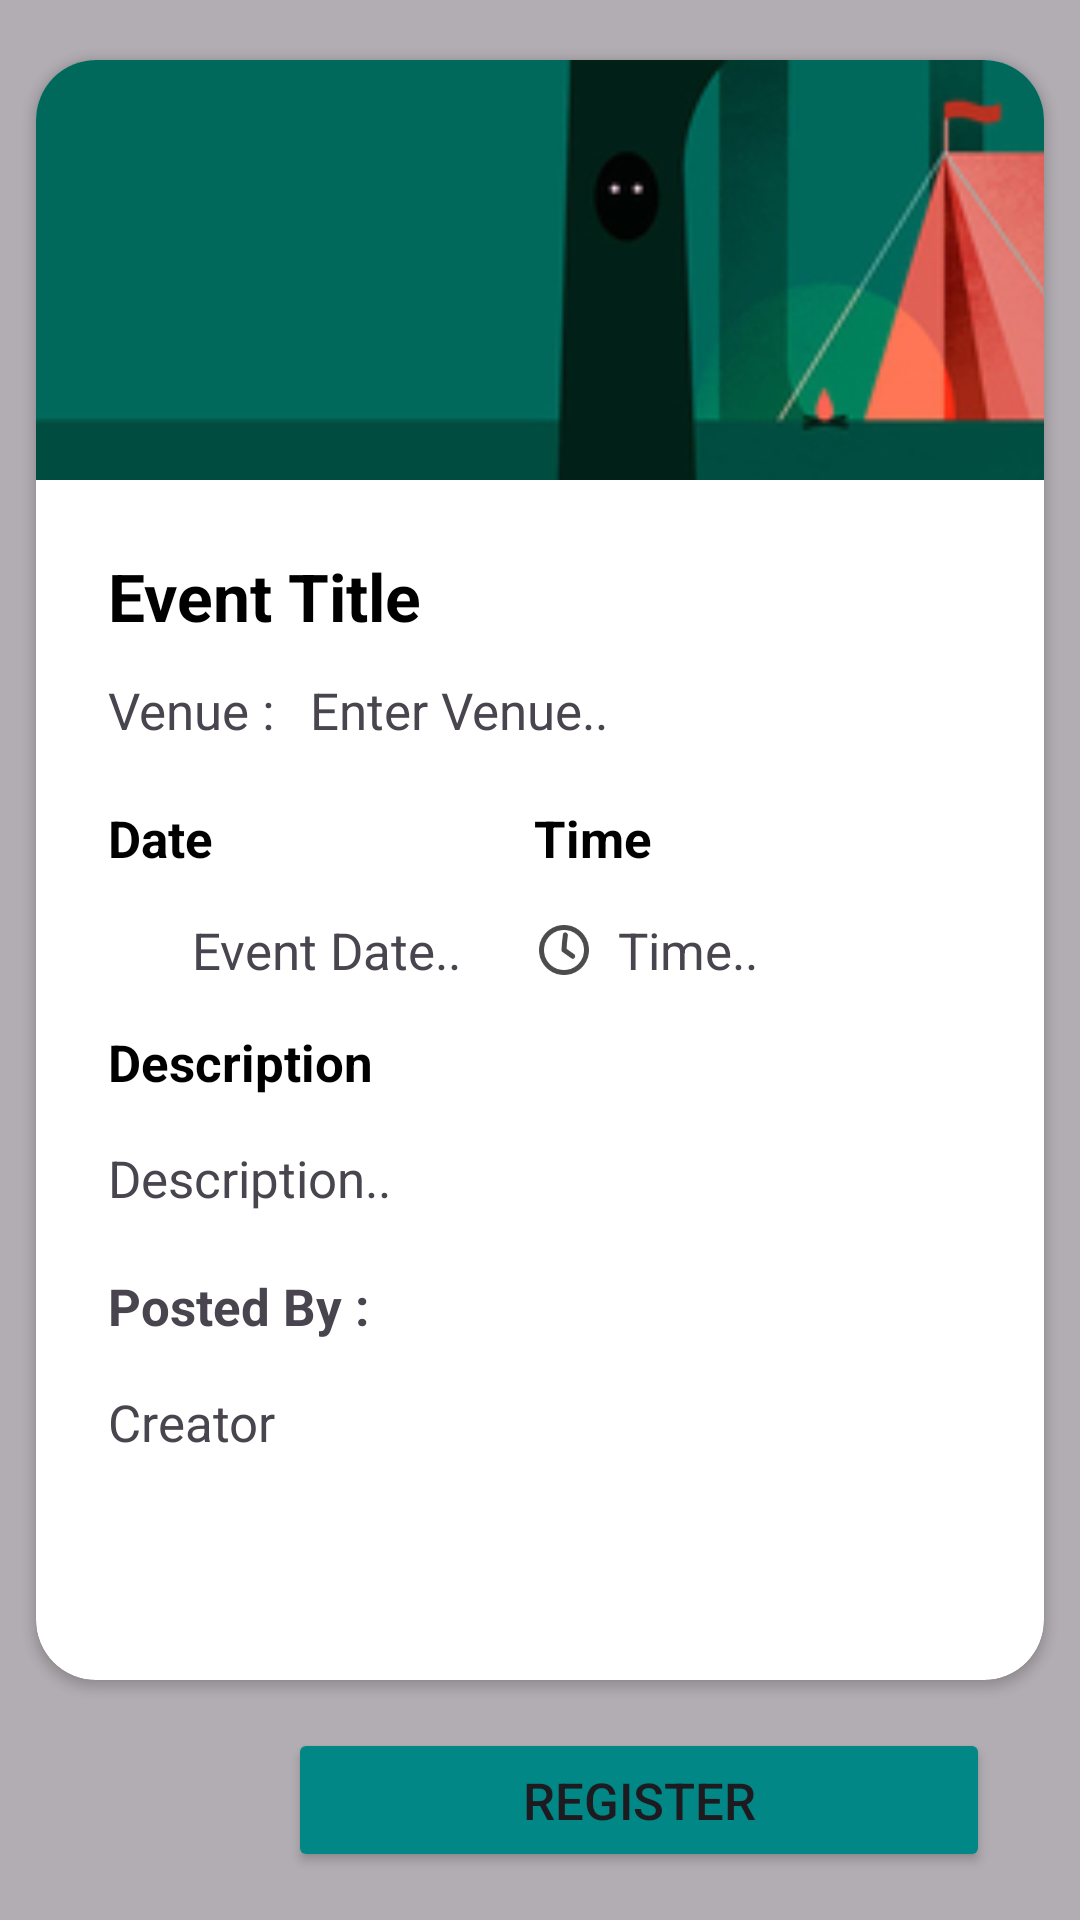

Locate icon controls on the screen. Image size 1080px×1920px, boxes as [x1, y1, x2, y2].
clock: [539, 925, 589, 975]
